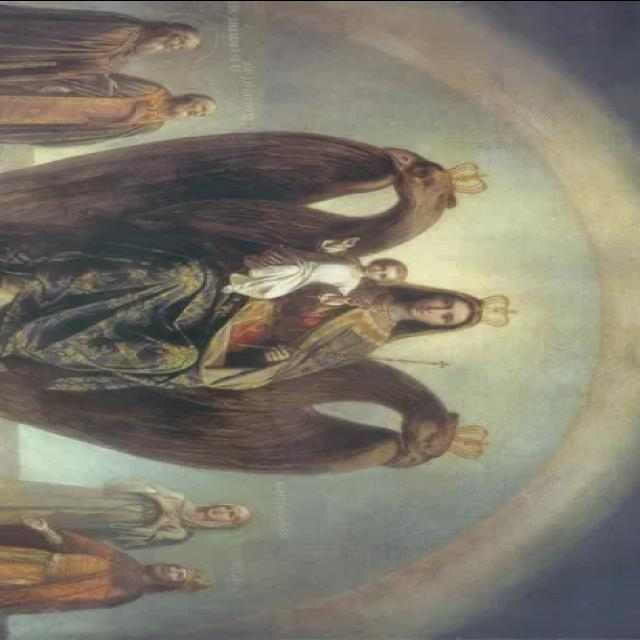mother of god: (0, 222, 498, 377)
